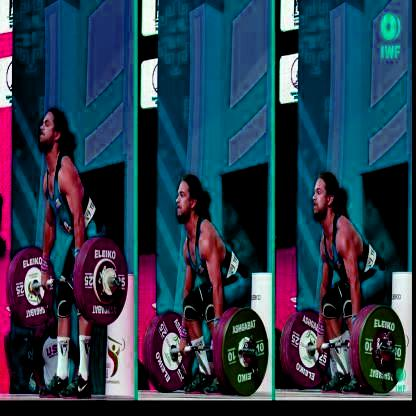Barbell: (381, 332, 401, 367), (243, 339, 263, 371), (103, 268, 125, 295)
